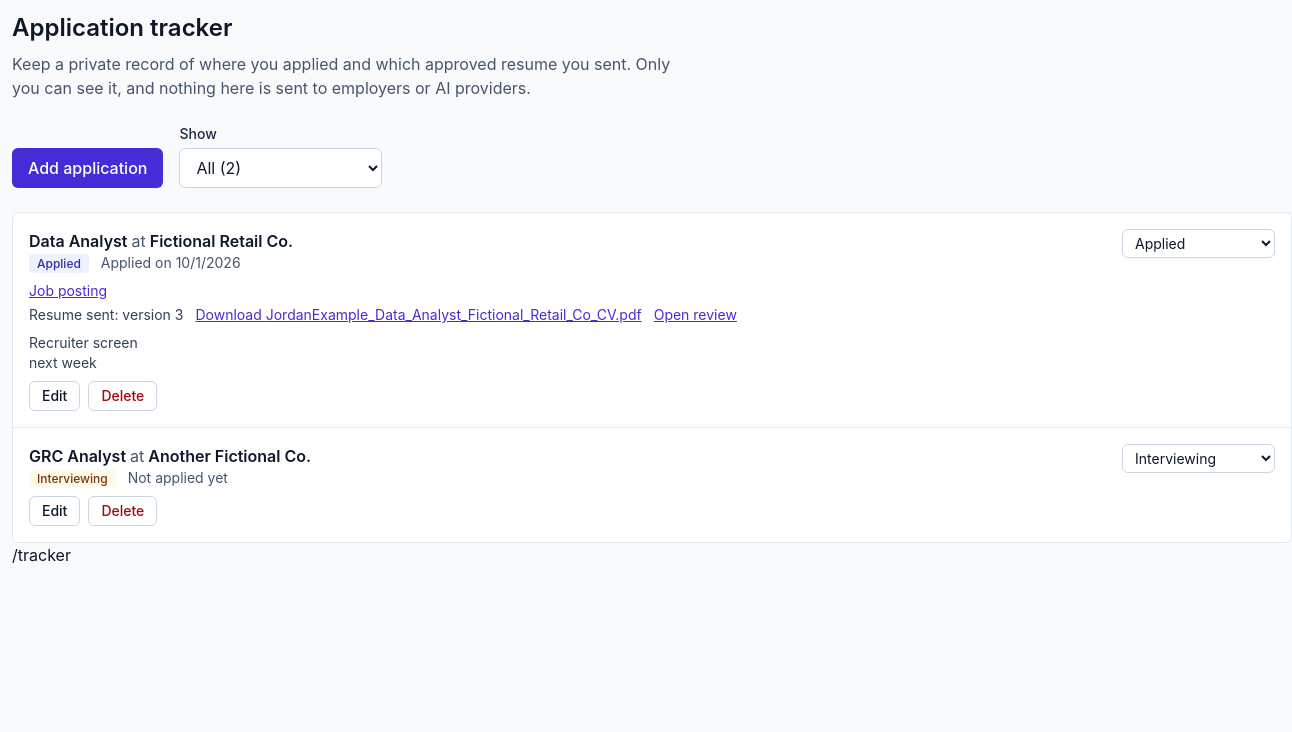
Test: TrackerPage › filters by status and changes a status with the version it loaded
Expected: the heading "GRC Analyst at Another Fictional Co." is shown, [29,444,311,468]
Select "Interviewing (1)" in the dropdown labelled "Show" at [281, 168], box [179,148,382,188]
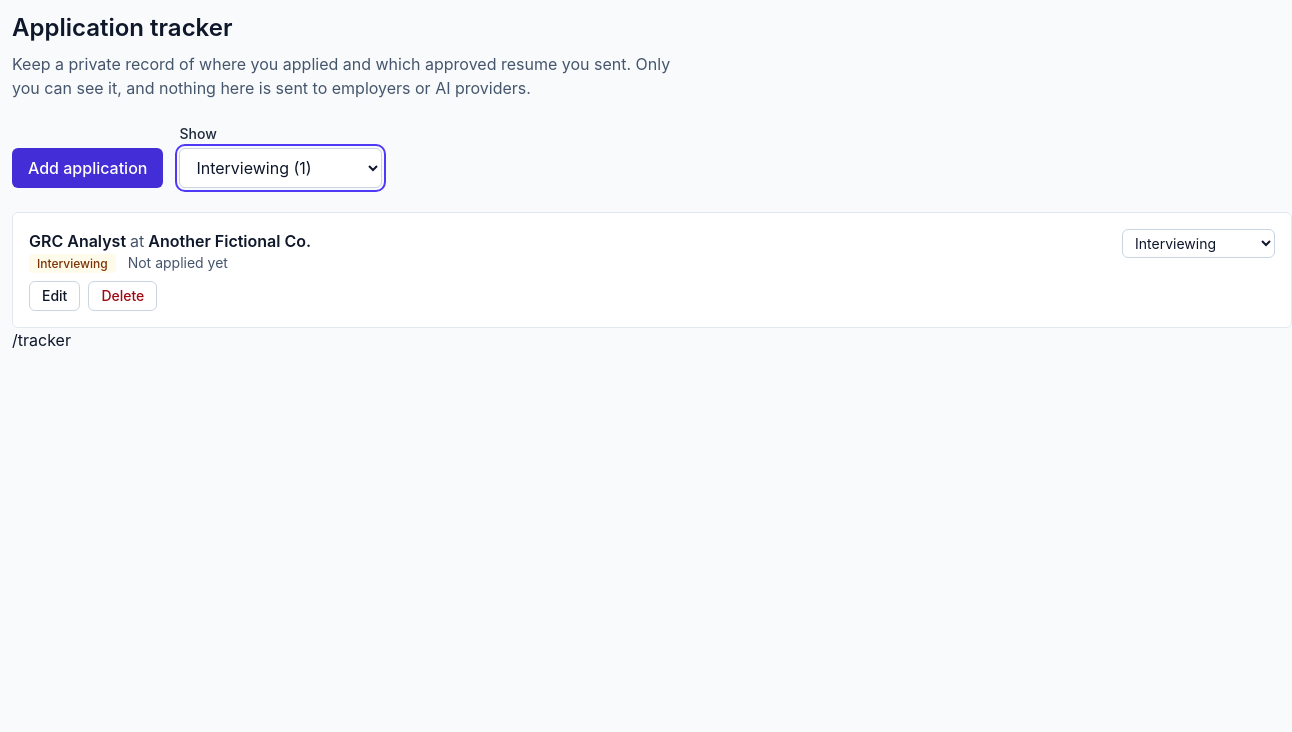
Result: the heading "Data Analyst at Fictional Retail Co." is gone
Select "All (2)" in the dropdown labelled "Show" at [281, 168], box [179,148,382,188]
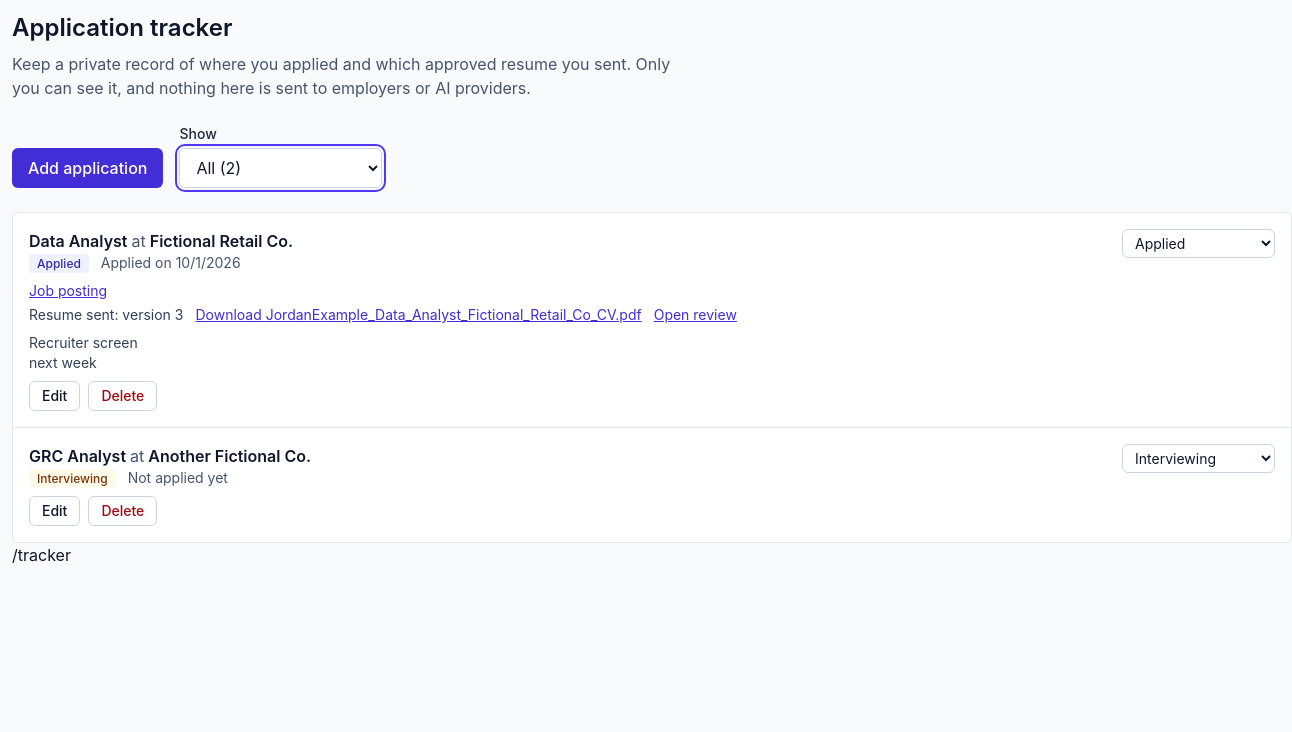
Select "Offer" in the dropdown named "Status for Data Analyst at Fictional Retail Co." in the row of "Fictional Retail Co." at [1198, 244], box [1122,229,1275,258]
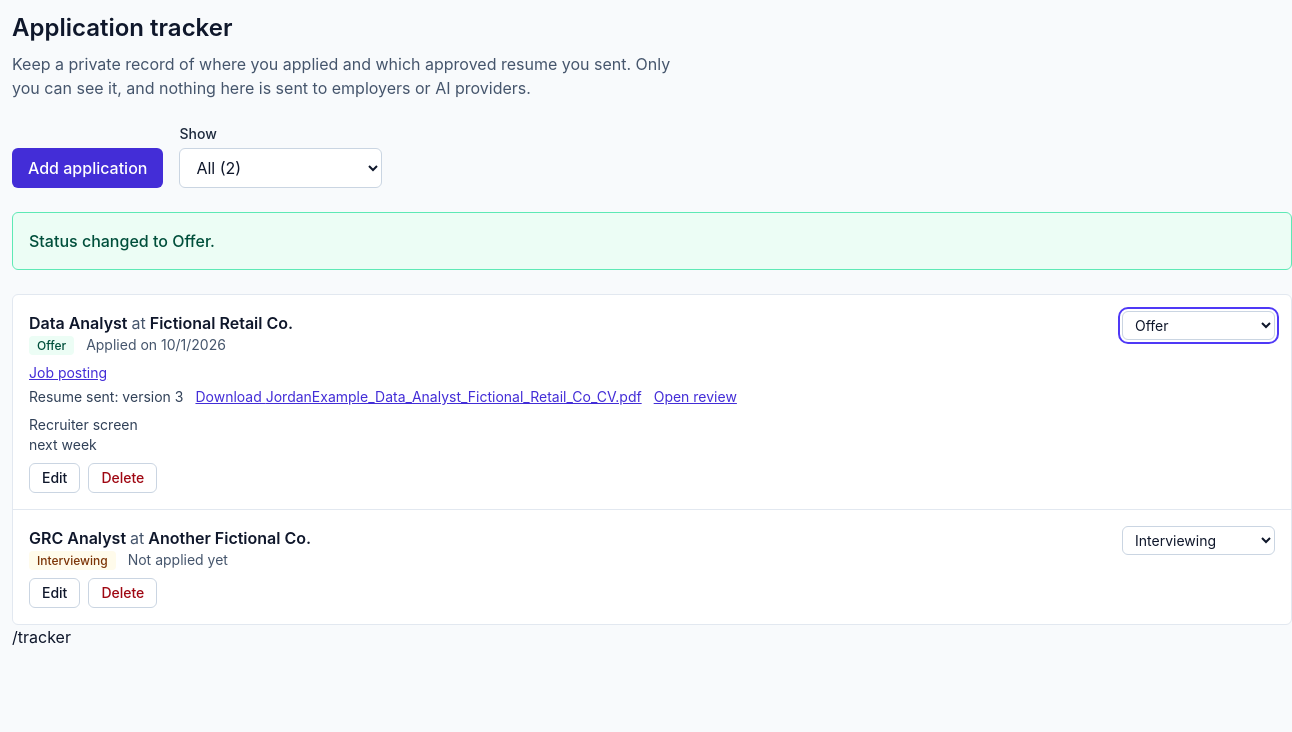
Result: the text "Status changed to Offer." is shown at [29,231,215,251]
